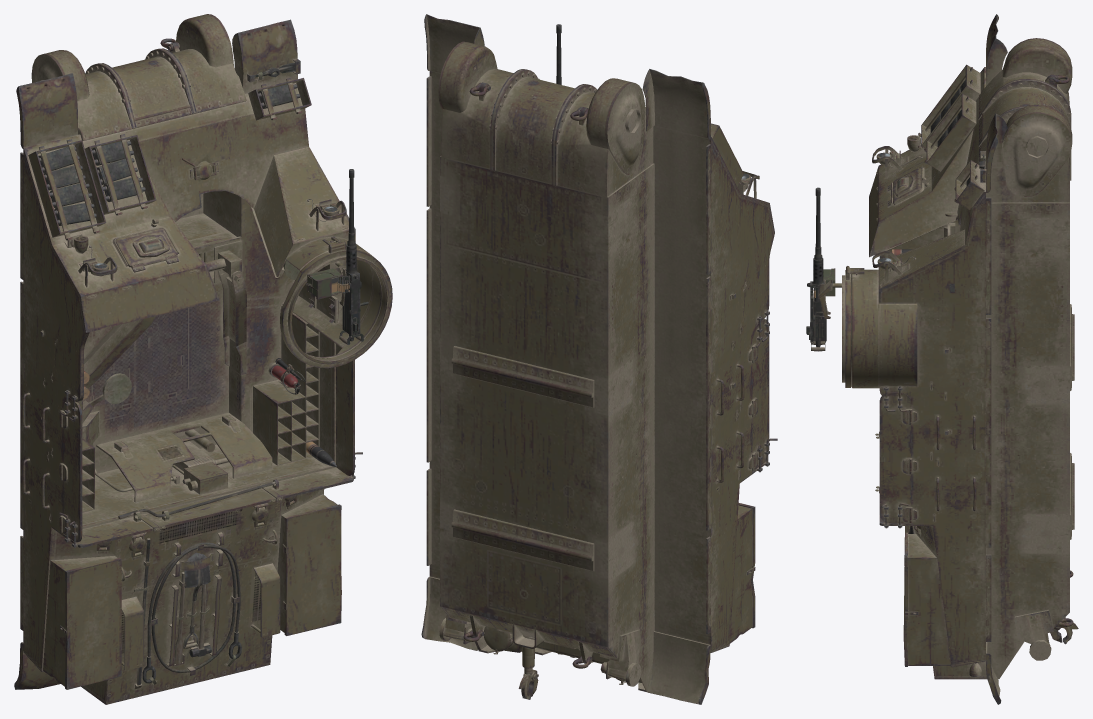
Rendered from Hull.glb.
3 views of the same model, side by side, from view 1: azimuth 30°, elevation 25°; view 2: azimuth 150°, elevation 25°; view 3: azimuth 270°, elevation 25° (orthographic). The views are drawn at different scales.
Visible parts, largest first — view 1: set_0_group_0; view 2: set_0_group_0; view 3: set_0_group_0.
Part boxes in pixels (x1,y1,x2,y2): set_0_group_0: [14, 14, 392, 704]; set_0_group_0: [421, 14, 777, 704]; set_0_group_0: [806, 14, 1078, 704].
Bounding box in the file's own units: 3.07 × 5.91 × 2.55.
1 material, 1 textured.
